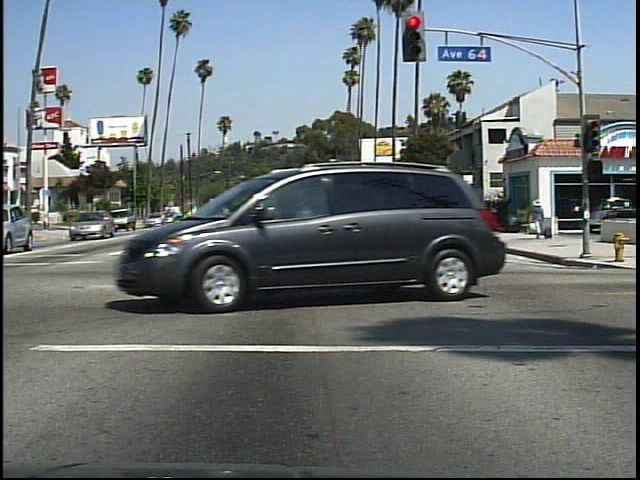person: (531, 196, 547, 241)
